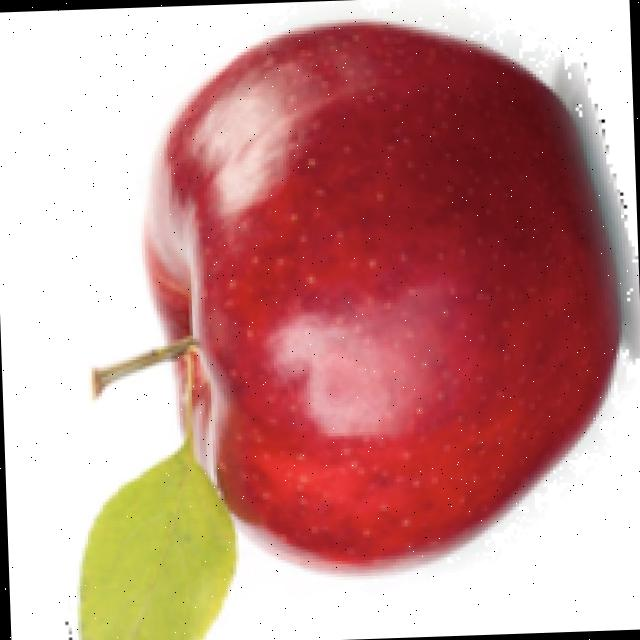apple: (63, 0, 638, 640)
